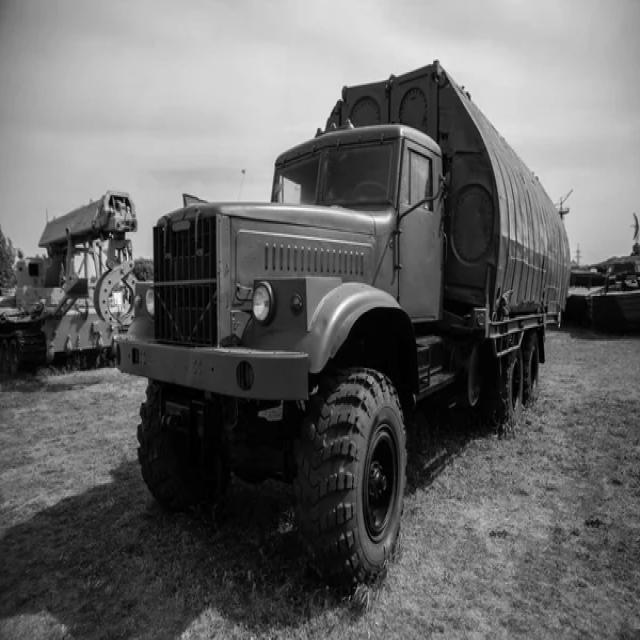Truck: (116, 66, 570, 586)
